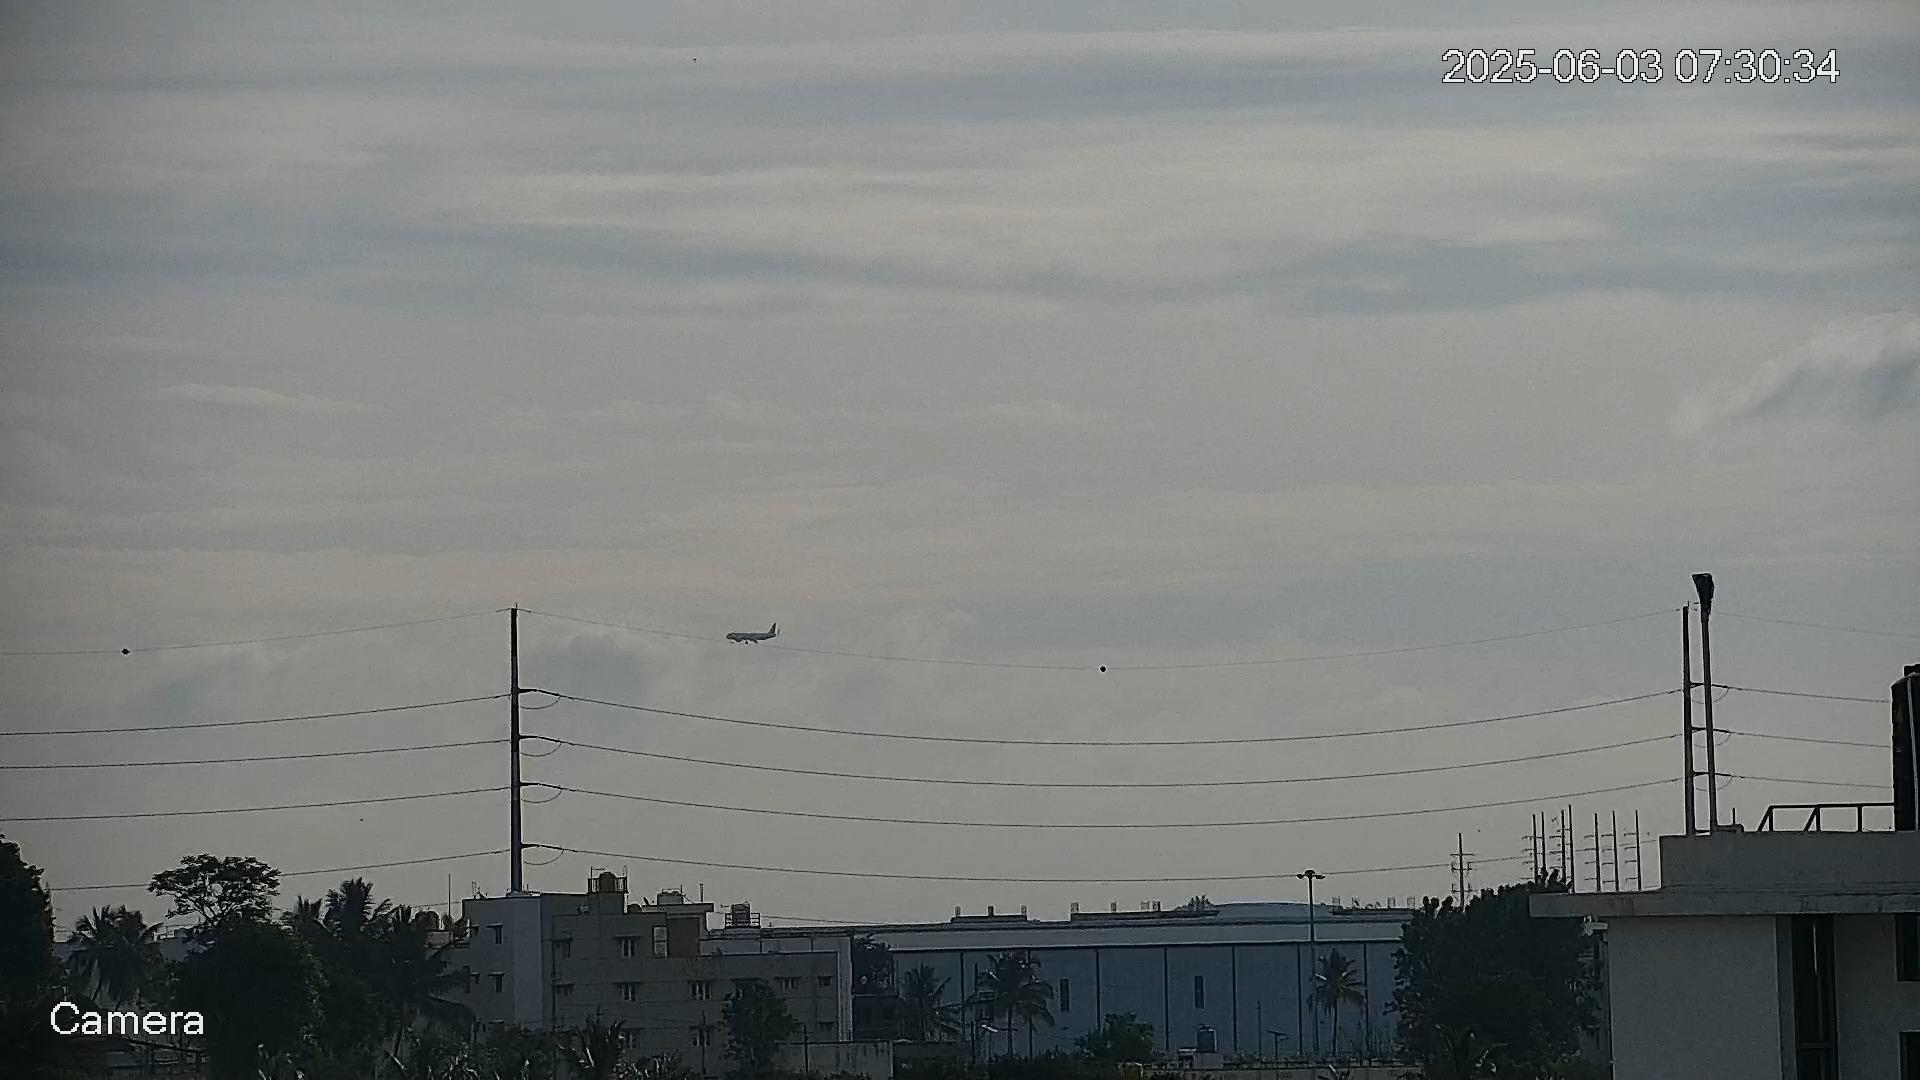Aircraft: (724, 621, 779, 645)
